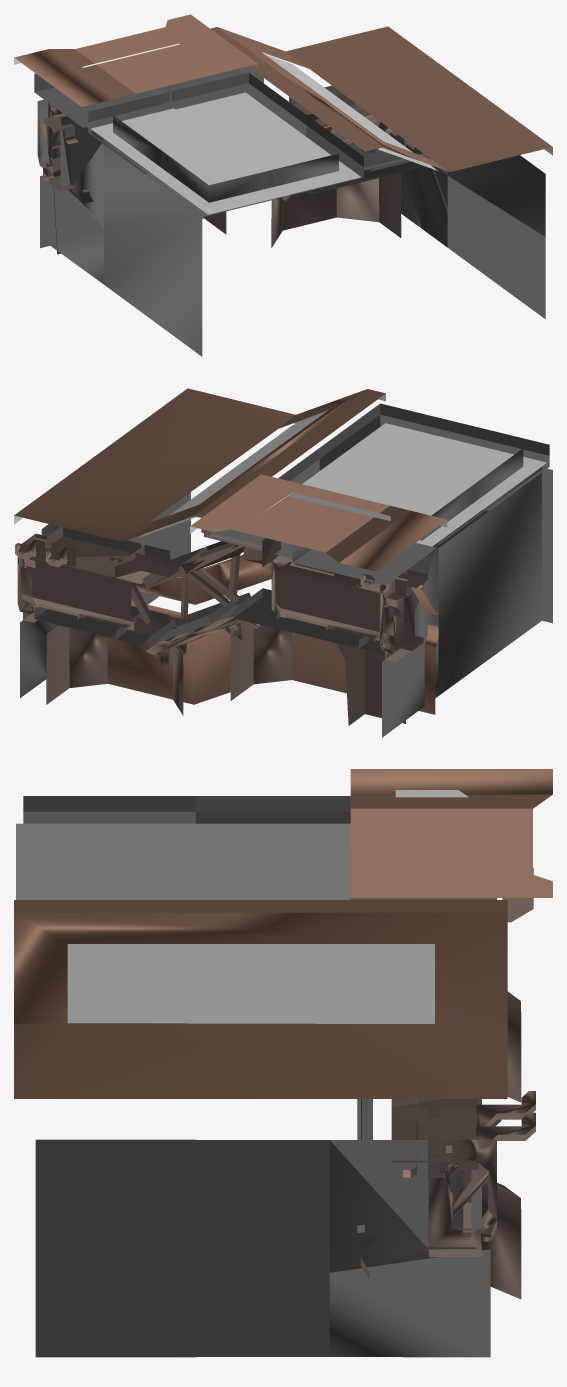
File: lorville_city_plating_wall_slope_b.glb
3 views of the same model, one above another, from view 1: azimuth 30°, elevation 25°; view 2: azimuth 150°, elevation 25°; view 3: azimuth 270°, elevation 25° (orthographic). The views are drawn at different scales.
Bounding box in the file's own units: 263 × 161 × 226.
